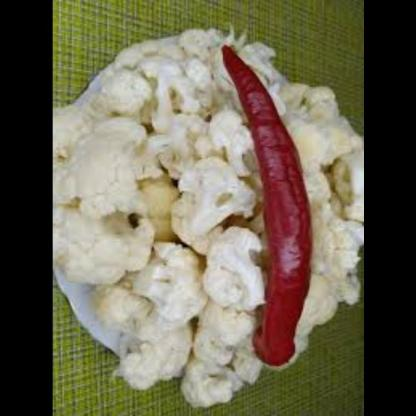cayliflower: (53, 37, 264, 400), (289, 71, 364, 360)
hot pepper: (220, 38, 307, 378)
